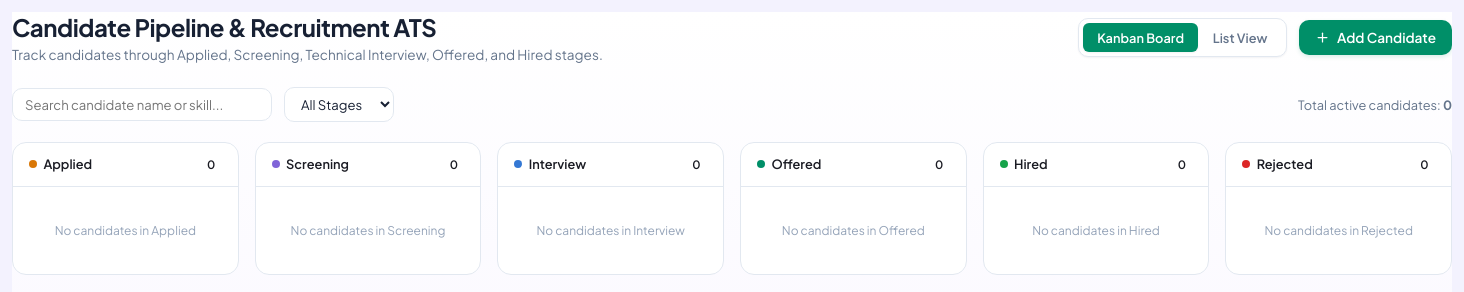
it: Mobile Modals and Admin Tables (Issue #118) › Admin Tables data-label attributes for Mobile Card Layout › renders CandidatesView table rows with data-label attributes on each cell
# Switch to list/table view mode
Step 1. Click the button "List View" → (1240, 38), box [1198,23,1282,52]
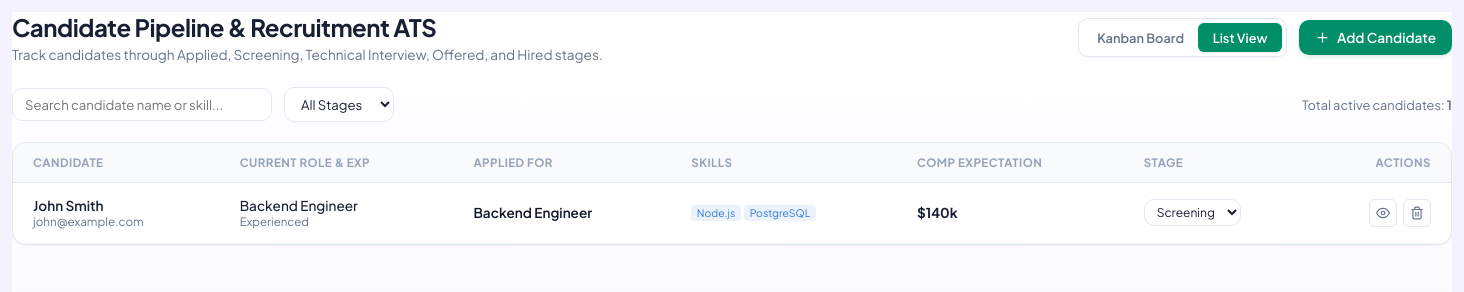
Now the text "John Smith" is shown, box [33,197,104,214]
Now the table with class "tw-table" is shown, box [13,143,1451,244]
Now the column heading "Current Role & Exp" is shown, box [220,143,453,183]
